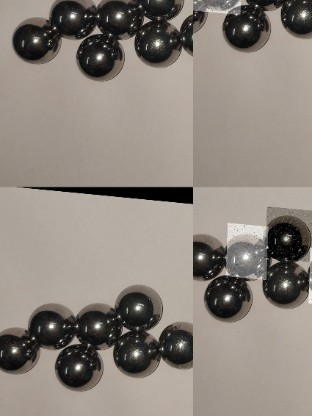ironball: (201, 267, 257, 324), (111, 280, 174, 328), (74, 31, 126, 85), (108, 327, 164, 376), (133, 17, 185, 68), (30, 299, 81, 349), (7, 10, 56, 62), (266, 202, 311, 257), (226, 219, 269, 276), (224, 0, 273, 48), (72, 303, 128, 345), (52, 342, 101, 389), (0, 322, 44, 374), (263, 258, 311, 305), (193, 219, 226, 278), (49, 0, 97, 39), (99, 0, 139, 40), (160, 319, 190, 371), (280, 0, 310, 41), (144, 0, 194, 20)
